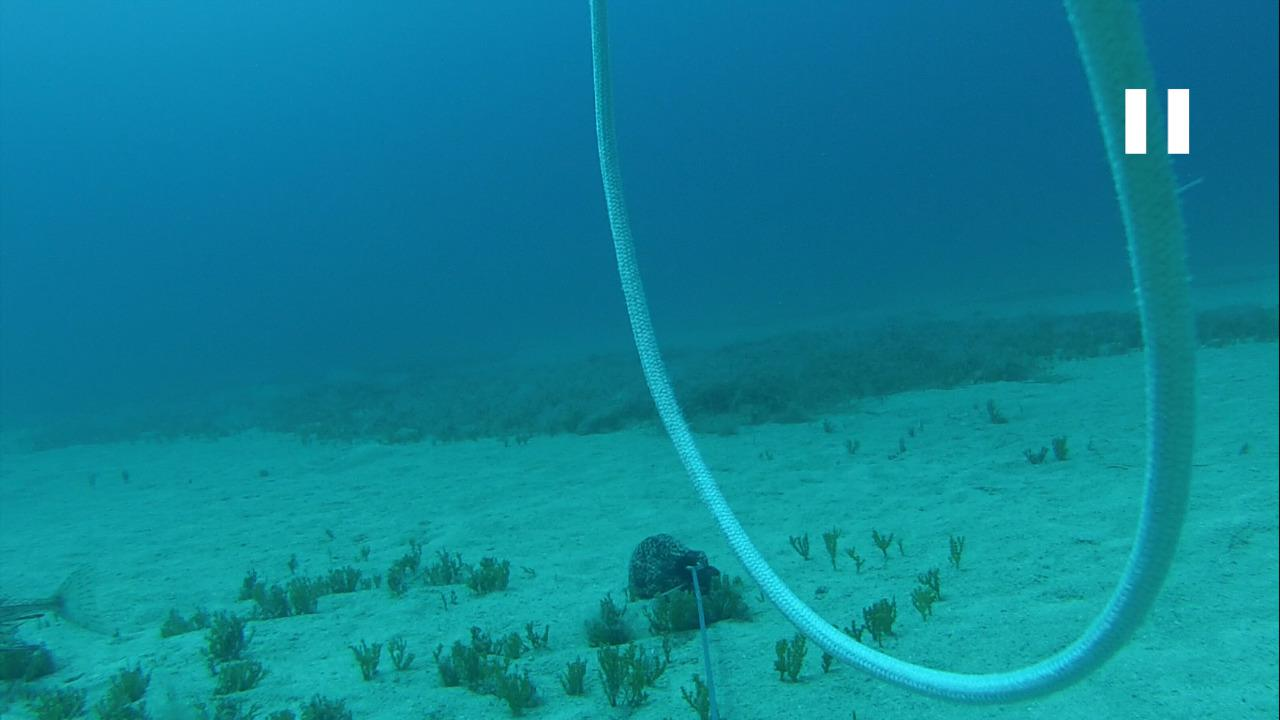dactylopterus: (1, 555, 120, 653)
